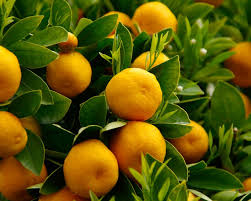orange: (106, 117, 167, 177), (62, 140, 121, 197), (102, 68, 165, 119), (44, 49, 92, 94), (131, 3, 180, 45), (168, 118, 211, 164)
